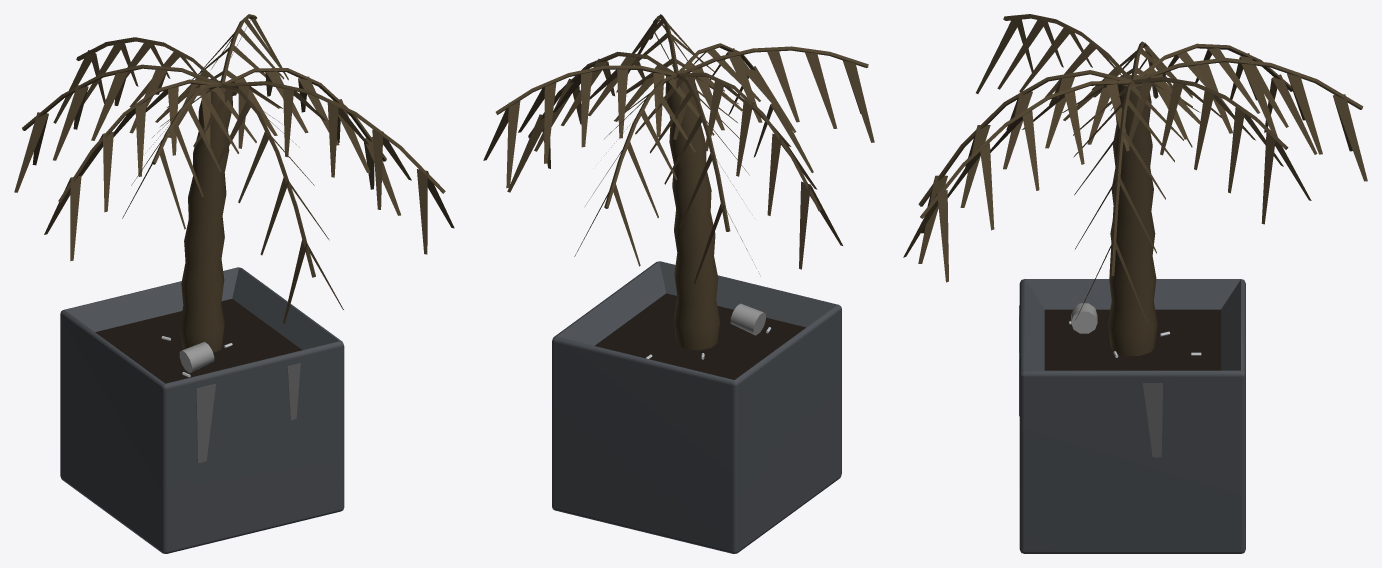
Rendered from Plant_Pot_Dead_B.fbx.
3 renders of one model, left to right at view 1: azimuth 30°, elevation 25°; view 2: azimuth 150°, elevation 25°; view 3: azimuth 270°, elevation 25°, orthographic. The views are drawn at different scales.
Visible parts, largest first — view 1: Plant_Pot_Dead_B_LOD0; view 2: Plant_Pot_Dead_B_LOD0; view 3: Plant_Pot_Dead_B_LOD0.
Boxes of the visible parts, bbox=[...] form: Plant_Pot_Dead_B_LOD0: bbox=[14, 14, 454, 553]; Plant_Pot_Dead_B_LOD0: bbox=[483, 14, 874, 553]; Plant_Pot_Dead_B_LOD0: bbox=[903, 14, 1367, 553].
Size of what is drawn, in the model's own units: 0.9728 by 1.25 by 1.15.
